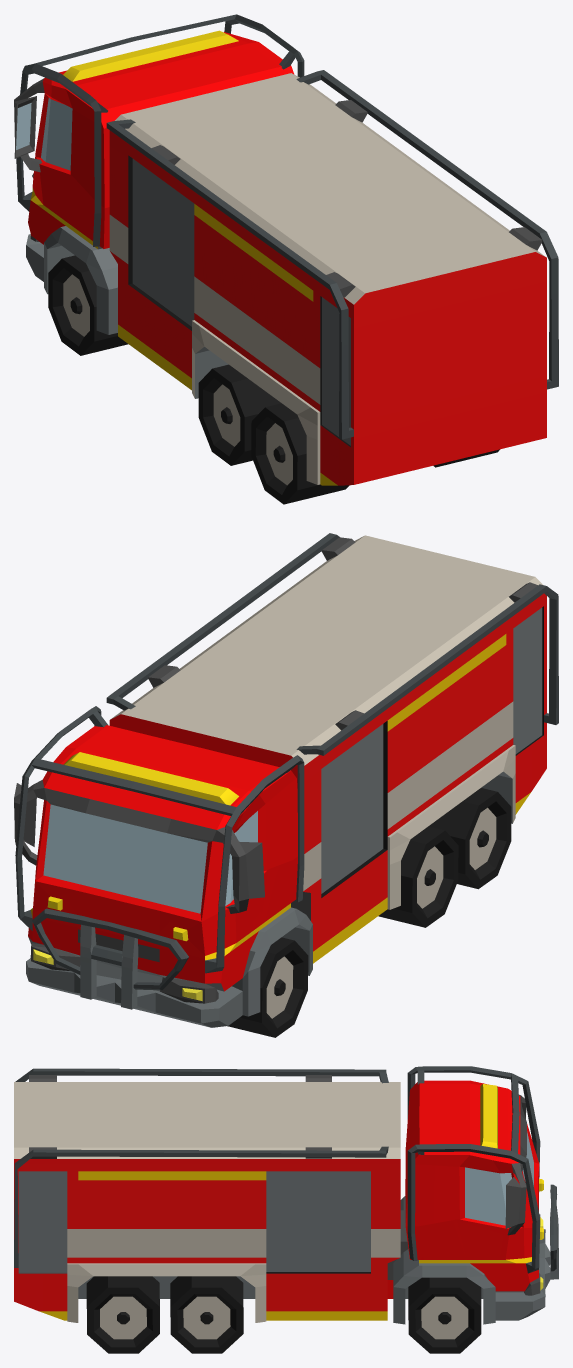
Rendered from ForestFireTruck3.fbx.
3 renders of one model, top to bottom at view 1: azimuth 30°, elevation 25°; view 2: azimuth 150°, elevation 25°; view 3: azimuth 270°, elevation 25°, orthographic. The views are drawn at different scales.
Parts seen in each view (by area): view 1: ForestFireTruck3; view 2: ForestFireTruck3; view 3: ForestFireTruck3.
Part boxes in pixels (<box>): ForestFireTruck3: <box>14,14,558,504</box>; ForestFireTruck3: <box>14,533,558,1037</box>; ForestFireTruck3: <box>14,1066,558,1353</box>.
Bounding box in the file's own units: 303 × 303 × 721.
Materials: 1 (1 with a texture image).
